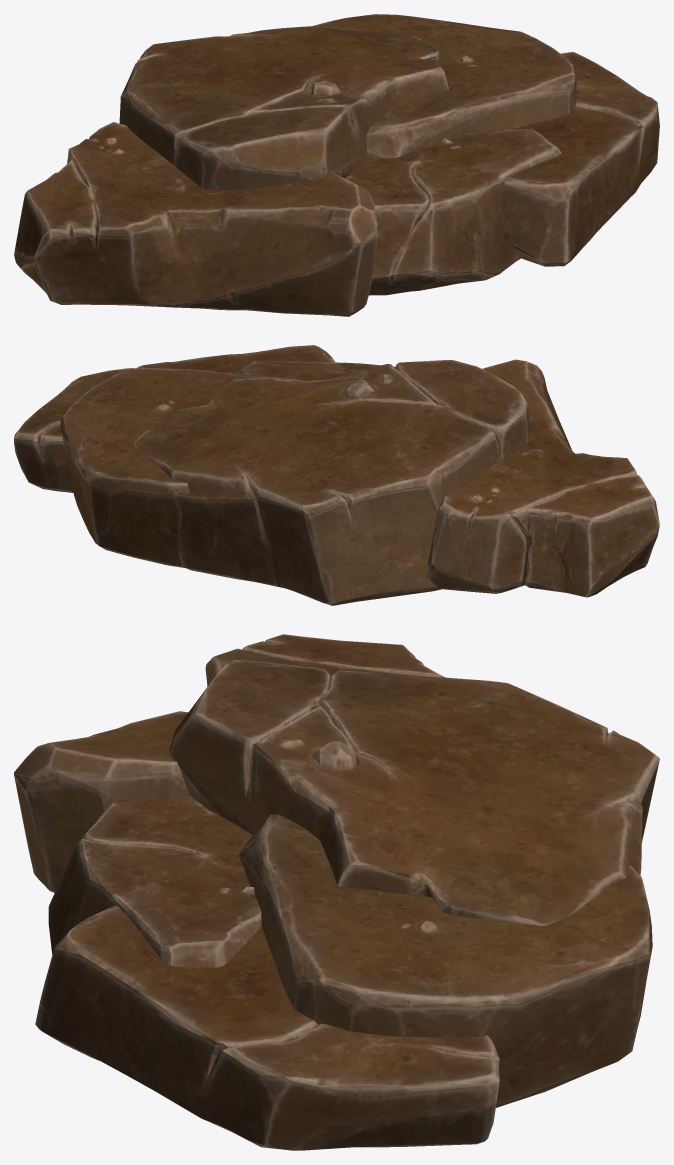
3 renders of one model, top to bottom at view 1: azimuth 30°, elevation 25°; view 2: azimuth 150°, elevation 25°; view 3: azimuth 270°, elevation 25°, orthographic. The views are drawn at different scales.
Parts seen in each view (by area): view 1: SM_Mining_Node_Medium_Clay_02_LOD0; view 2: SM_Mining_Node_Medium_Clay_02_LOD0; view 3: SM_Mining_Node_Medium_Clay_02_LOD0.
Boxes of the visible parts, bbox=[...] form: SM_Mining_Node_Medium_Clay_02_LOD0: bbox=[14, 14, 659, 316]; SM_Mining_Node_Medium_Clay_02_LOD0: bbox=[14, 345, 659, 605]; SM_Mining_Node_Medium_Clay_02_LOD0: bbox=[14, 634, 659, 1150].
Size of the model in its own units: 4.02 by 0.9135 by 2.6.
1 material, 1 textured.
